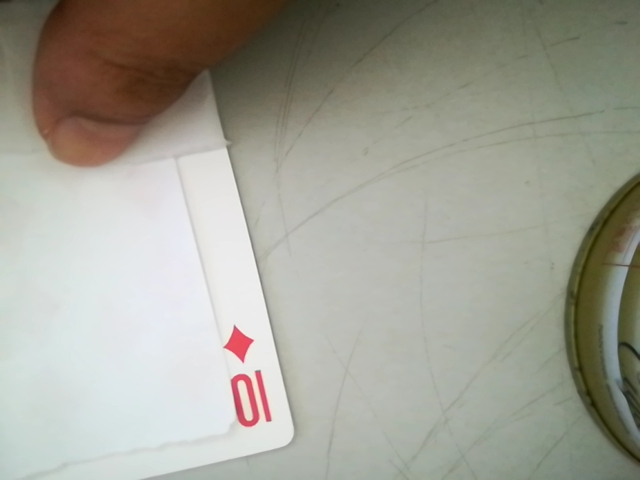fk 10: (211, 312, 279, 441)
